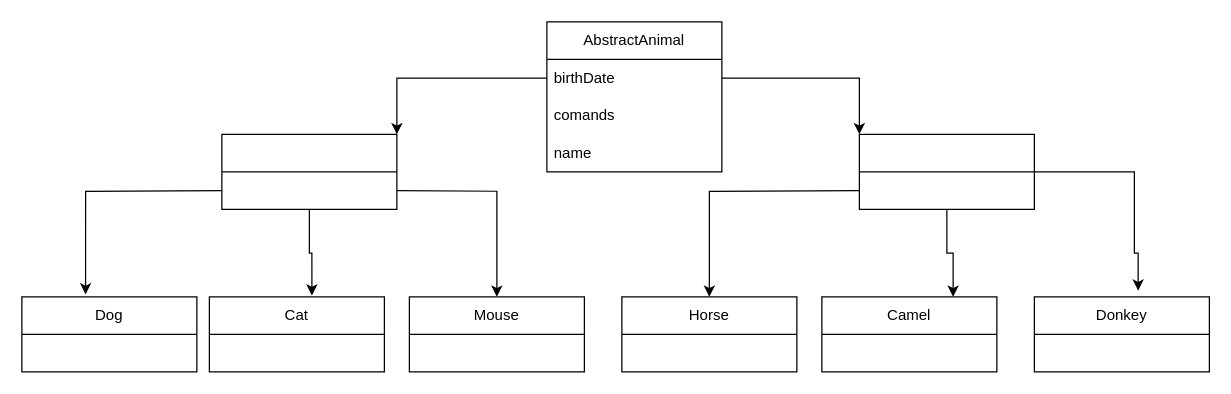
The diagram is 1231 pixels wide and 394 high, and some of its shapes have lost their labels. Here are the shapes that lost their labels. From the top down, the centre of each, then its label:
At (309,171): "HomeAnimal".
At (946,171): "RidingAnimal".
